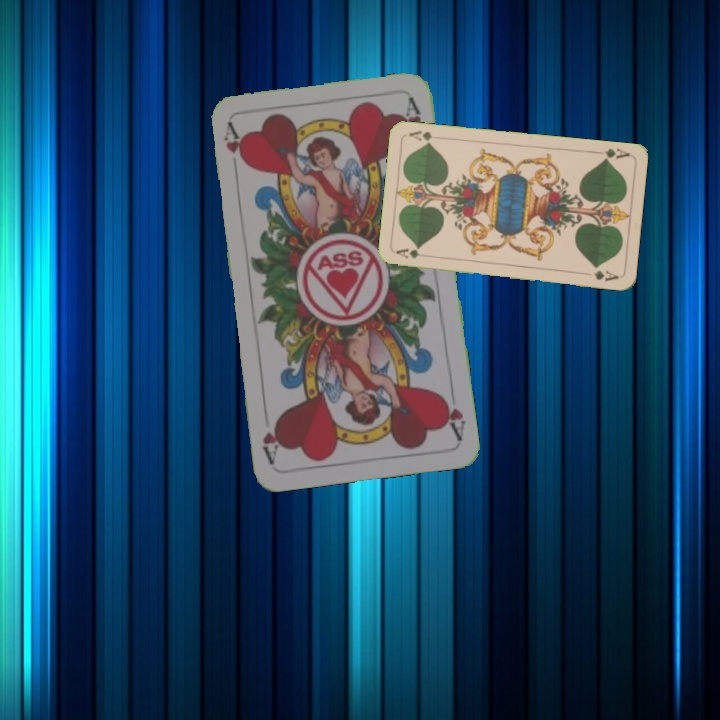GA: (592, 144, 632, 164), (392, 245, 433, 261)
HA: (438, 383, 469, 442), (219, 119, 248, 179)
